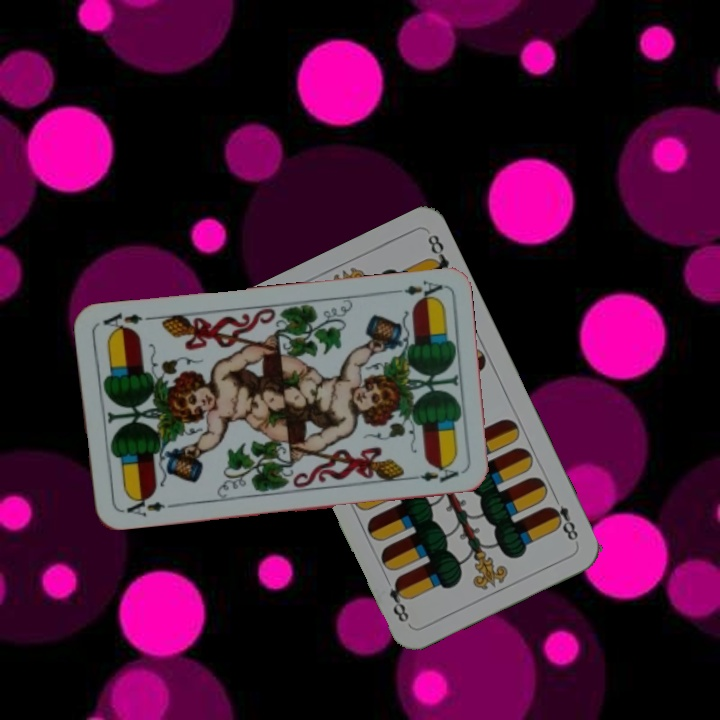E8: (544, 490, 581, 544)
EA: (386, 276, 445, 304), (123, 491, 176, 519)
